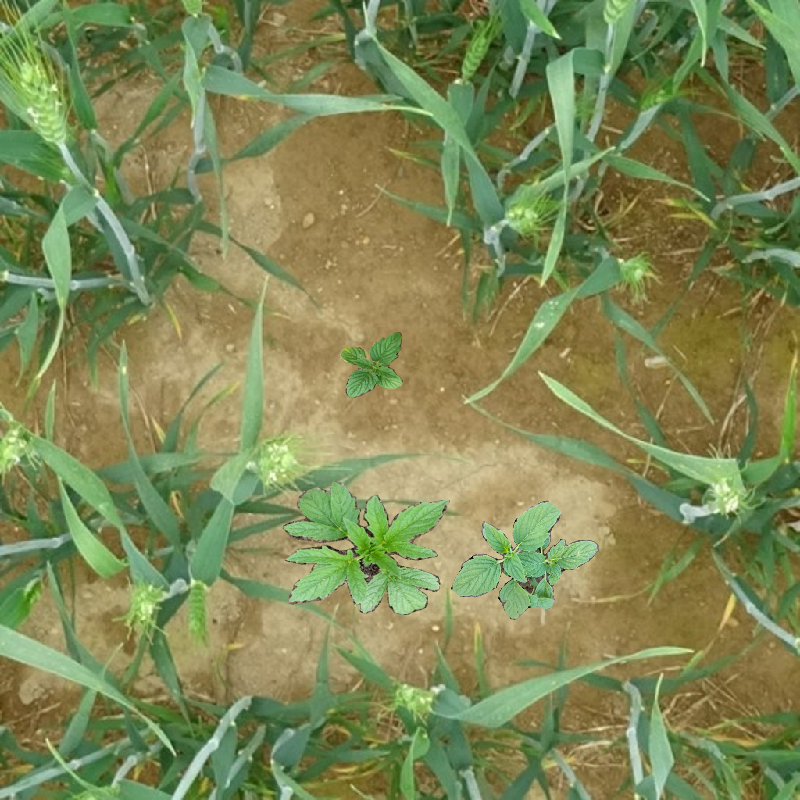spikelet: (16, 58, 69, 146), (253, 437, 300, 486), (457, 29, 496, 88), (1, 422, 39, 472), (128, 583, 163, 633), (612, 254, 655, 293), (702, 478, 743, 516), (398, 684, 440, 717), (502, 201, 541, 234), (189, 579, 209, 639), (600, 1, 627, 27)
weed: (283, 481, 450, 615), (452, 499, 600, 619), (340, 332, 403, 398)
